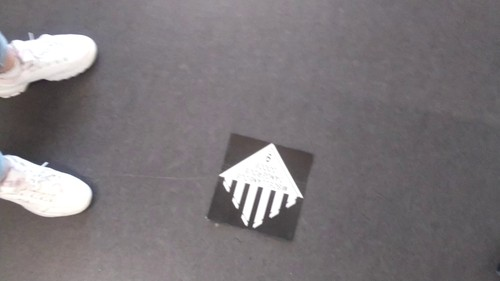misgoods: (214, 145, 313, 230)
